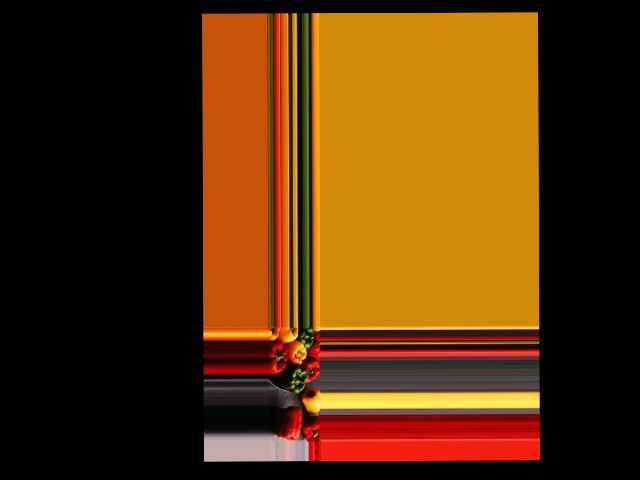bell_pepper: (302, 415, 318, 442)
